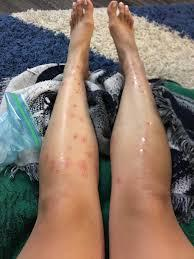Reupload: (17, 0, 103, 258), (107, 1, 193, 258)
